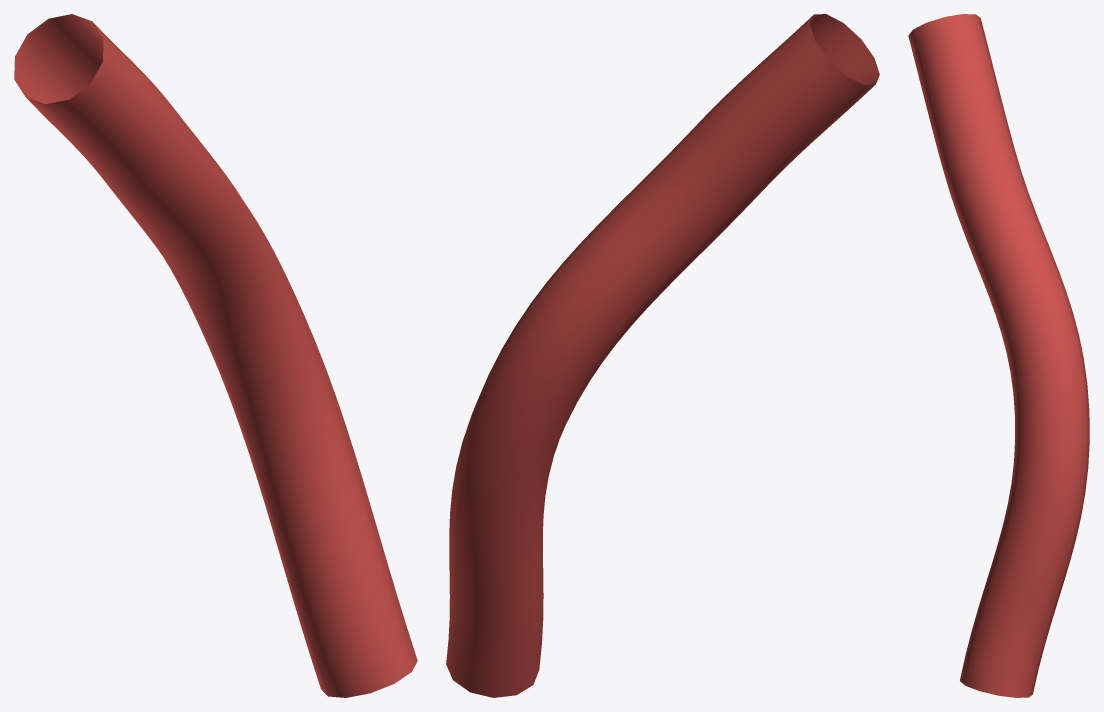
3 renders of one model, left to right at view 1: azimuth 30°, elevation 25°; view 2: azimuth 150°, elevation 25°; view 3: azimuth 270°, elevation 25°, orthographic. The views are drawn at different scales.
Visible parts, largest first — view 1: 左侧后交通动脉; view 2: 左侧后交通动脉; view 3: 左侧后交通动脉.
Part boxes in pixels (<box>): 左侧后交通动脉: <box>14,14,417,697</box>; 左侧后交通动脉: <box>446,14,879,697</box>; 左侧后交通动脉: <box>908,14,1089,697</box>.
Size of the model in its own units: 0.0106 by 0.0185 by 0.00536.
